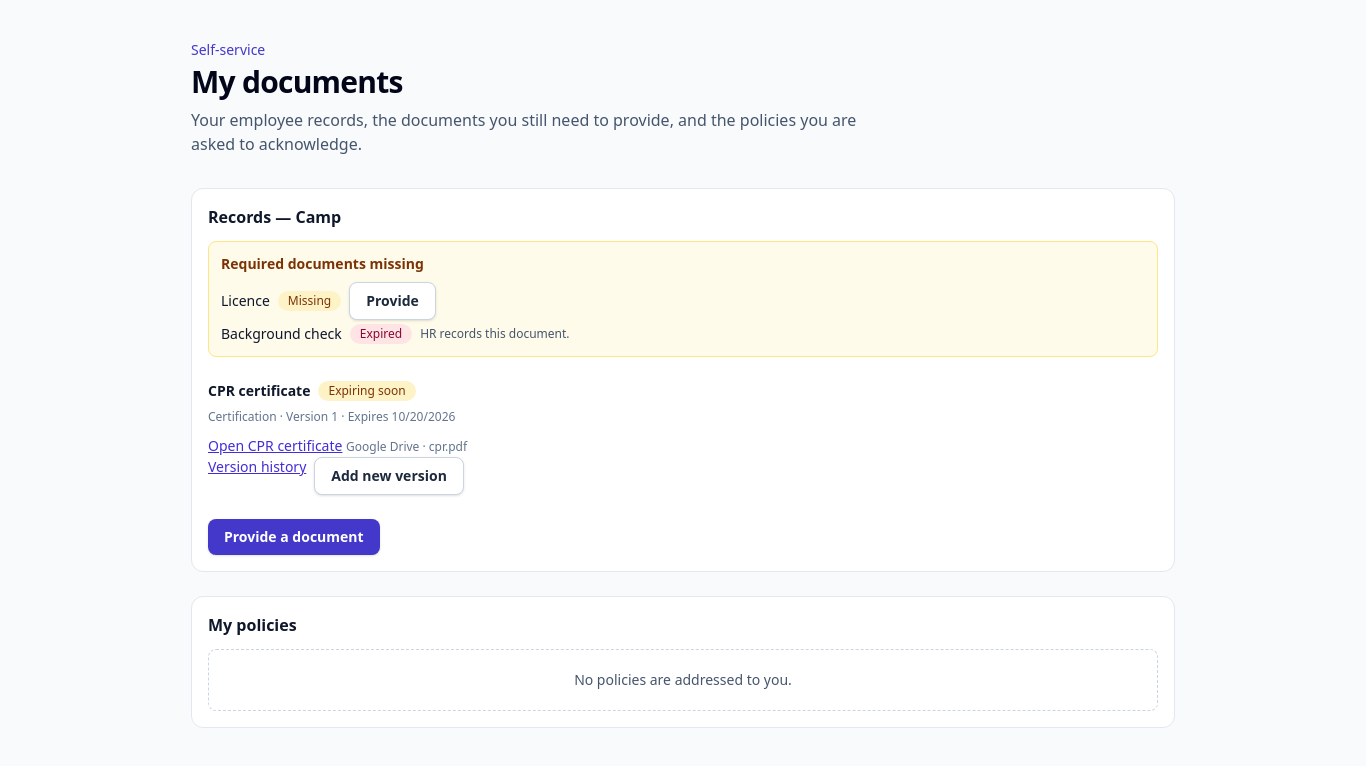
Test case: MyDocumentsPage › provides a Google Drive reference for a missing employee-provided document
Click the button with aria-label "Provide Licence" at (392, 301), box [349,282,436,320]
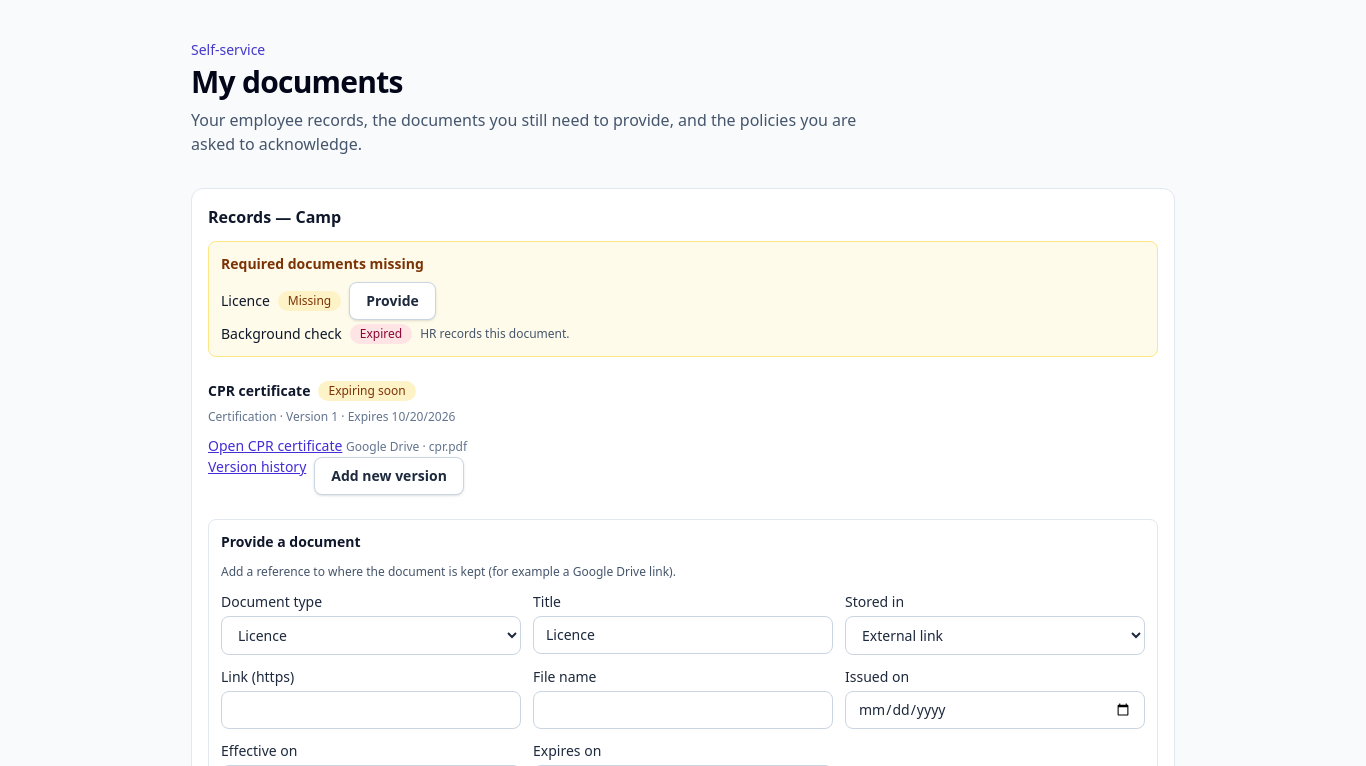
Expected: the dropdown labelled "Document type" shows "Licence", [221,616,521,655]
Expected: the field labelled "Title" holds "Licence", [533,616,833,654]
Select "Google Drive" in the dropdown labelled "Stored in" at (995, 636), box [845,616,1145,655]
(page scrolled)
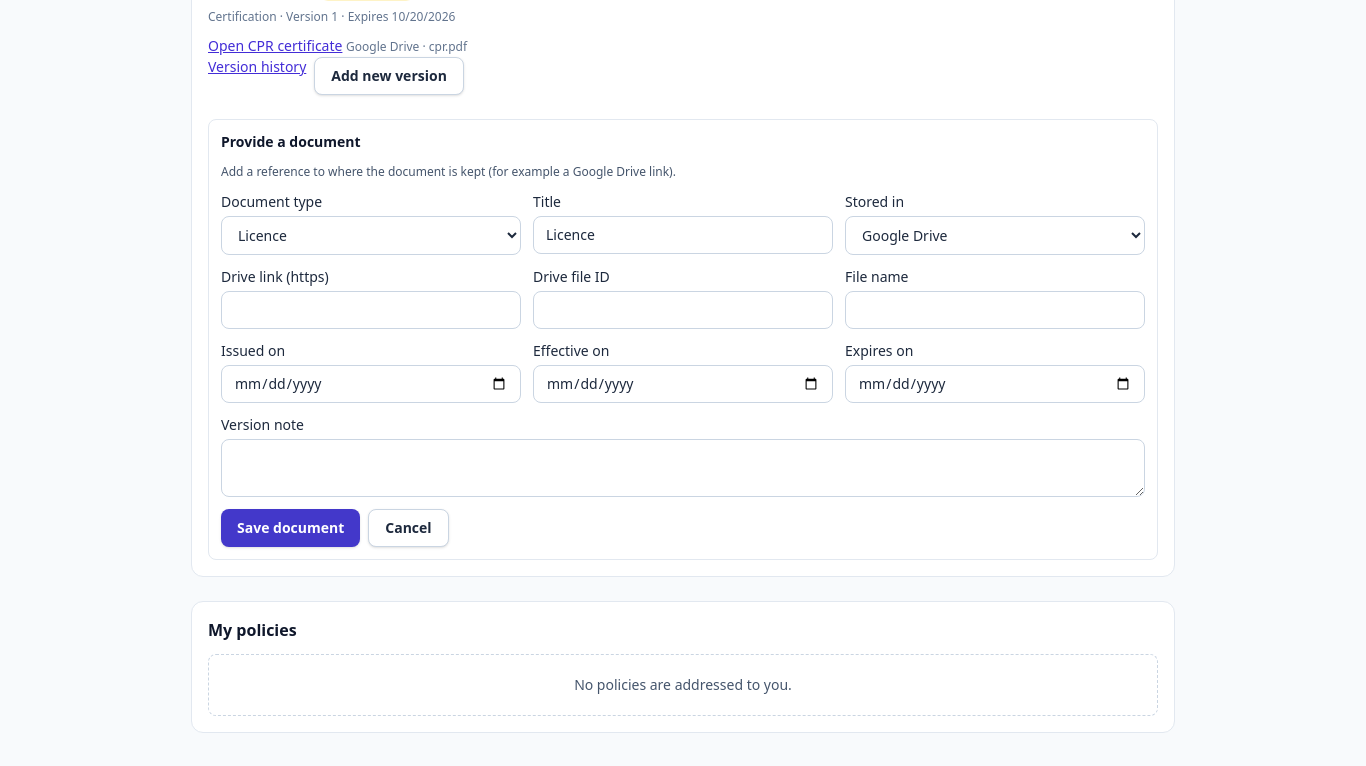
Type "2028-05-31" into the date field labelled "Expires on" at (995, 384), box [845,365,1145,403]
Type "javascript:alert(1)" into the field labelled "Drive link (https)" at (371, 310), box [221,291,521,329]
Click the button "Save document" at (291, 528), box [221,509,360,547]
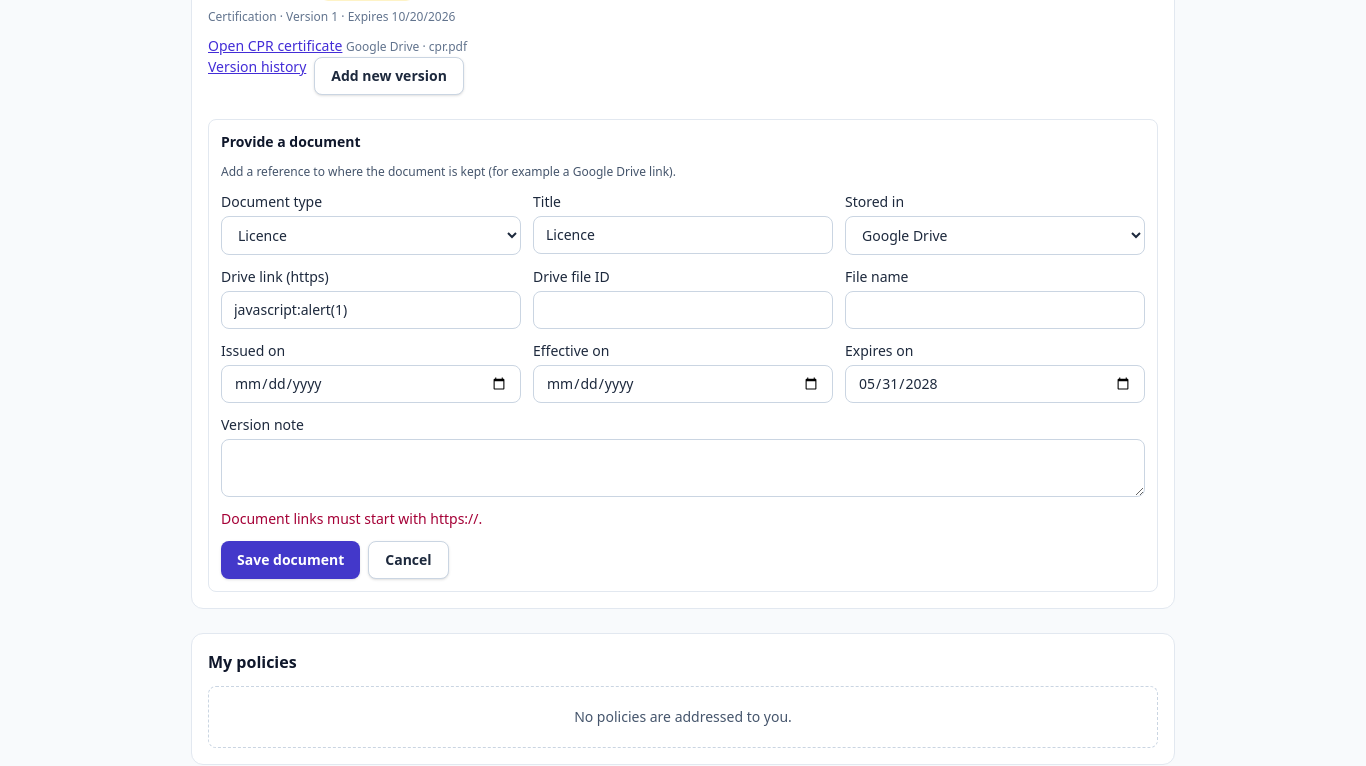
Expected: the text "Document links must start with https://." is shown, [221,509,482,528]
Clear the field labelled "Drive link (https)" at (371, 310), box [221,291,521,329]
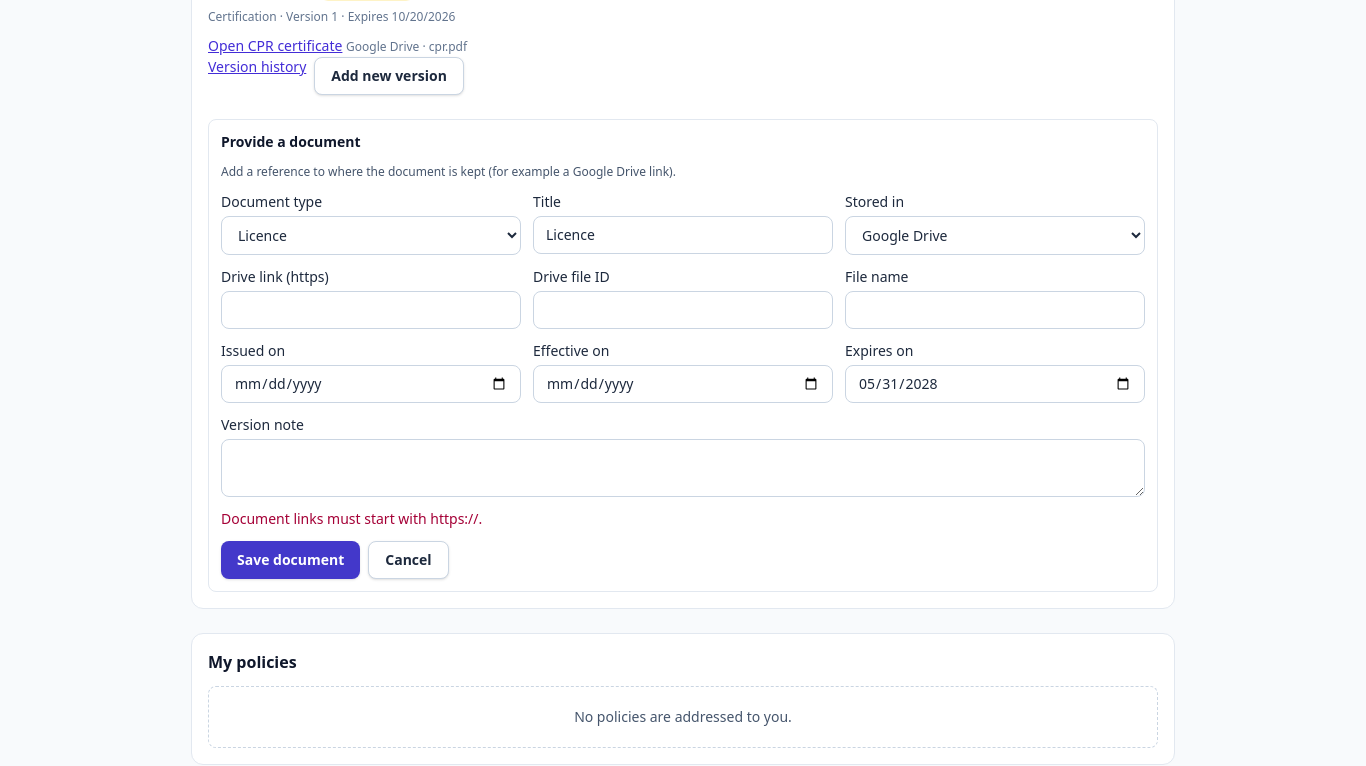
Type "1AbC-licence" into the field labelled "Drive file ID" at (683, 310), box [533,291,833,329]
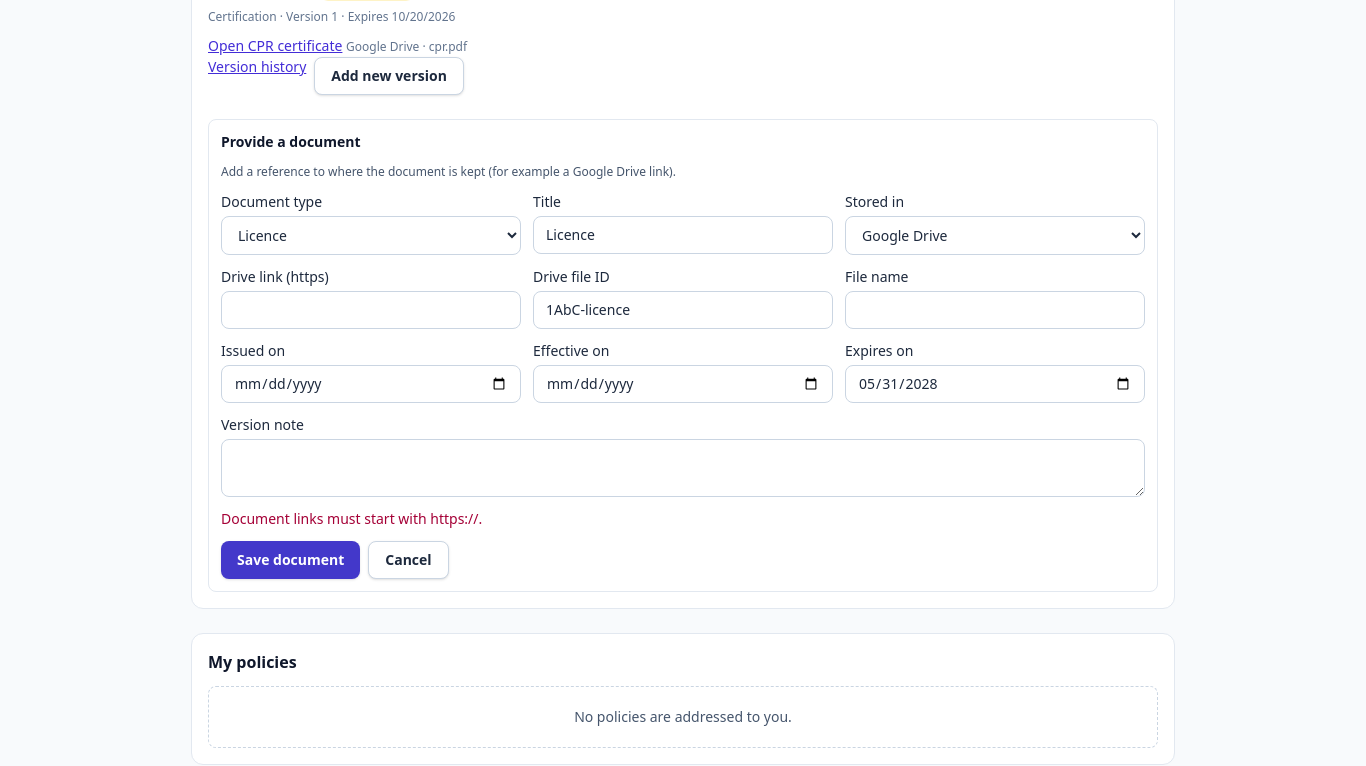
Click the button "Save document" at (291, 560), box [221,541,360,579]
(page scrolled)
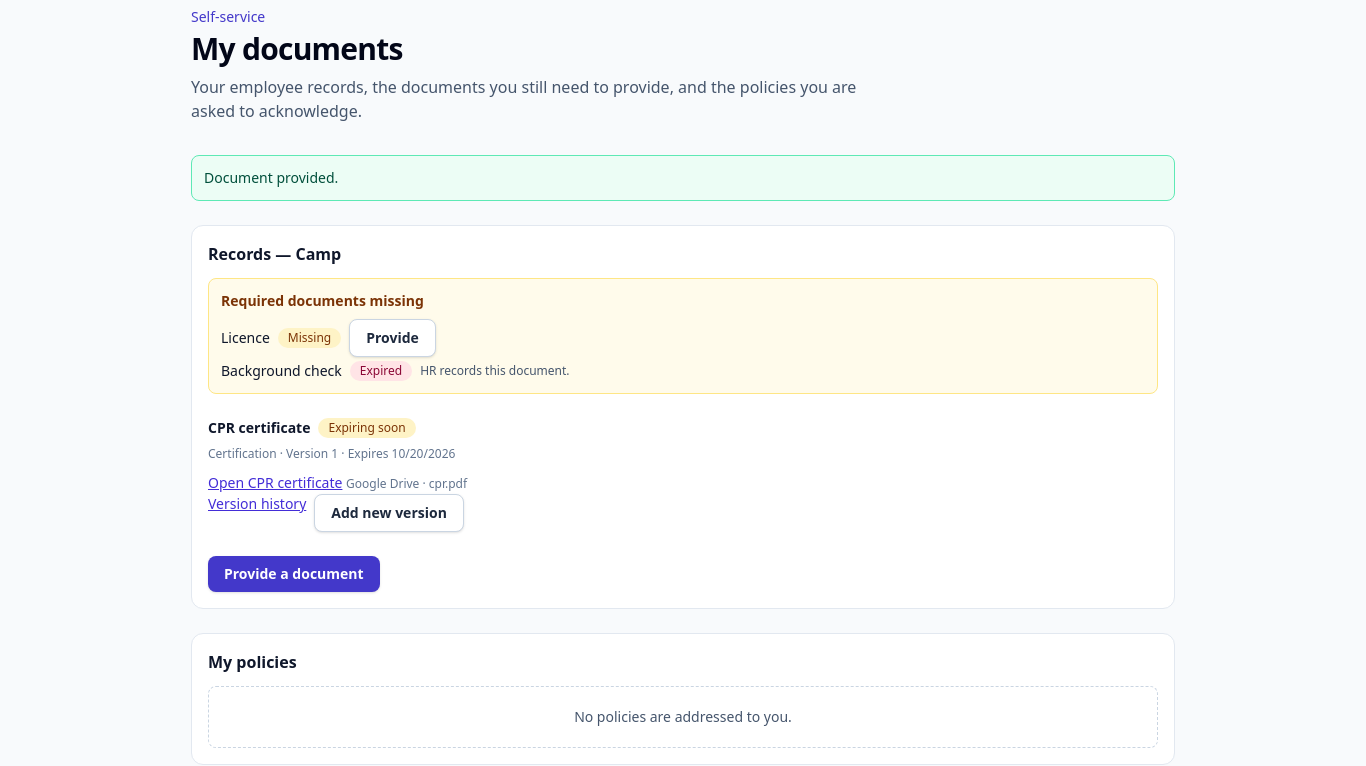
Expected: the text "Document provided." is shown, [191,155,1175,201]
